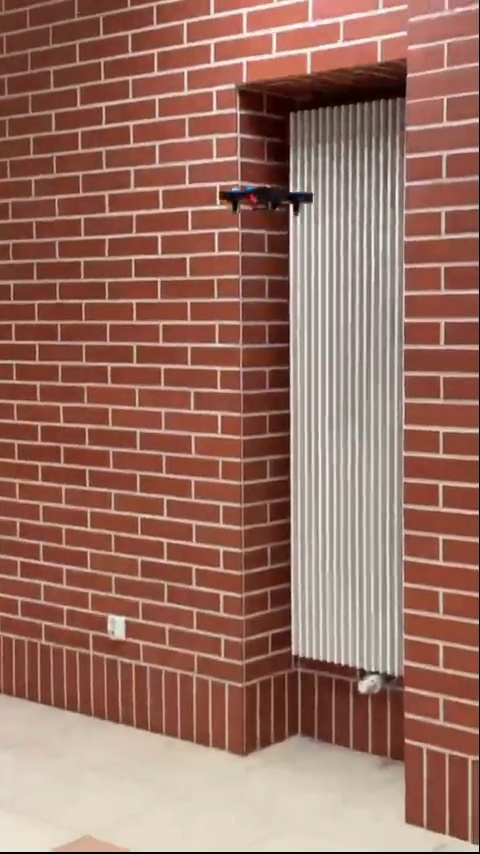drone: (225, 182, 316, 210)
